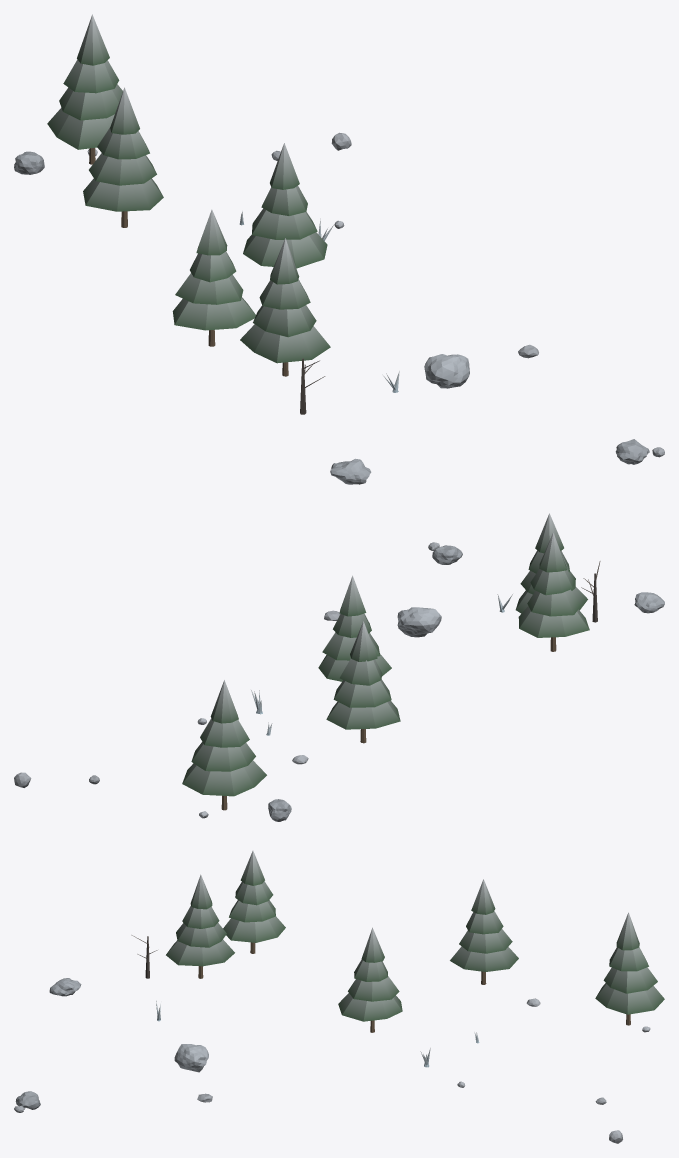
File: frost_land_scatter_c22_10.glb
The picture shows the model from 3 angles, top to bottom: view 1: azimuth 30°, elevation 25°; view 2: azimuth 150°, elevation 25°; view 3: azimuth 270°, elevation 25°; orthographic projection. The views are drawn at different scales.
Parts seen in each view (by area): view 1: frost_land_scatter_c22_10; view 2: frost_land_scatter_c22_10; view 3: frost_land_scatter_c22_10.
Boxes of the visible parts, x1,y1,x2,y2 form: frost_land_scatter_c22_10: (14,14,664,484); frost_land_scatter_c22_10: (14,513,664,821); frost_land_scatter_c22_10: (14,850,664,1143).
Bounding box in the file's own units: 48.13 × 23.12 × 85.97.
